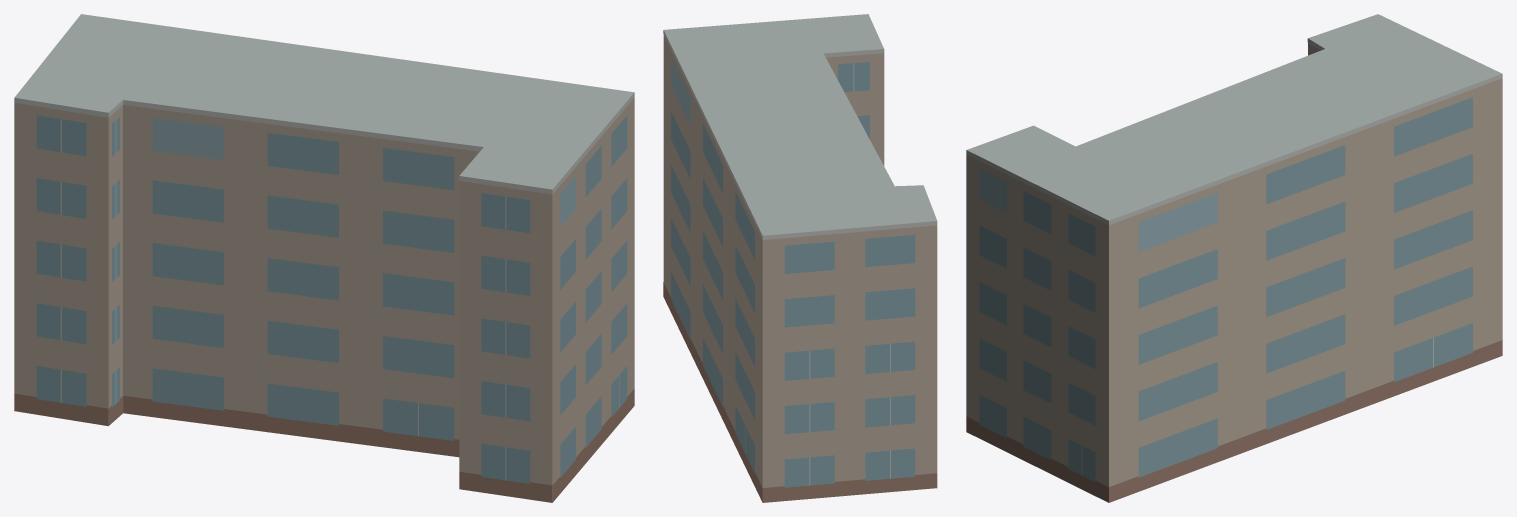
Rendered from survey-upis-32628306.glb.
The picture shows the model from 3 angles, left to right: view 1: azimuth 30°, elevation 25°; view 2: azimuth 150°, elevation 25°; view 3: azimuth 270°, elevation 25°; orthographic projection. The views are drawn at different scales.
Visible parts, largest first — view 1: survey-upis-32628306.tmp; view 2: survey-upis-32628306.tmp; view 3: survey-upis-32628306.tmp.
Part boxes in pixels (<box>): survey-upis-32628306.tmp: <box>14,14,634,502</box>; survey-upis-32628306.tmp: <box>663,14,937,502</box>; survey-upis-32628306.tmp: <box>966,14,1502,502</box>.
Size of the model in its own units: 23.99 by 15.25 by 26.27.
